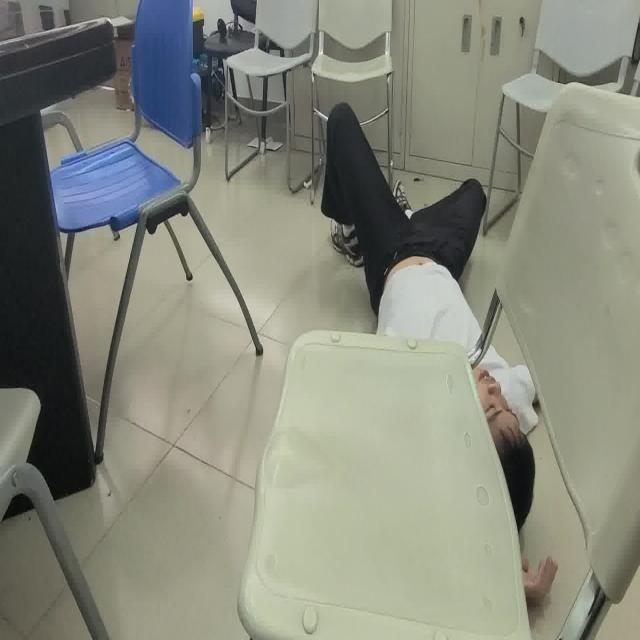Fall-Detected: (322, 100, 560, 603)
